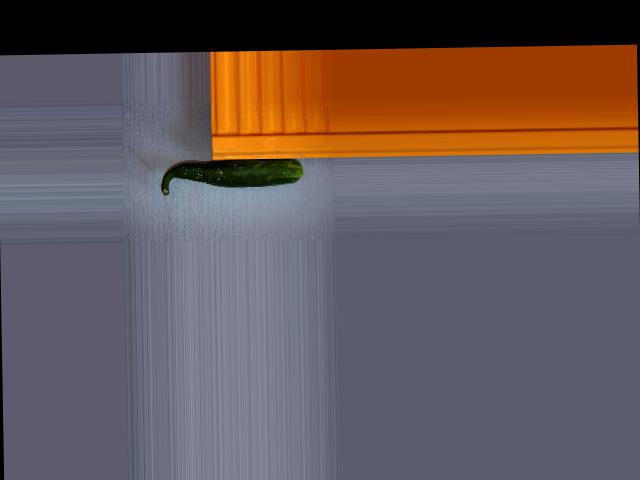cucumber: (159, 157, 302, 195)
